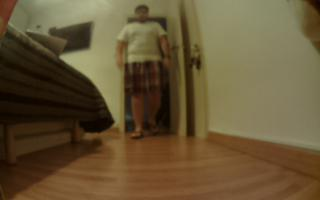person: (112, 3, 173, 142)
